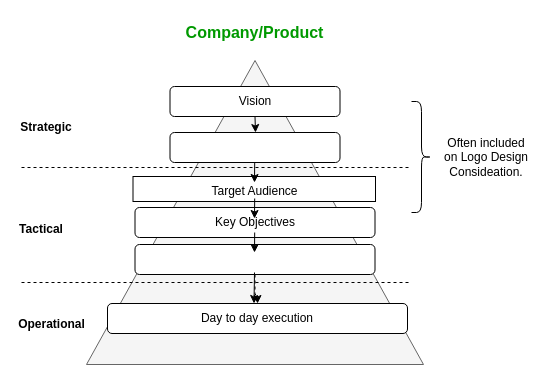
This 548x382 diagram has some shape labels left out. The box of each missing label's shape, as (x1, y1, x2, y2) in pixels:
KPI (key performance indicator): (134, 244, 375, 274)
Mission: (169, 132, 340, 162)
